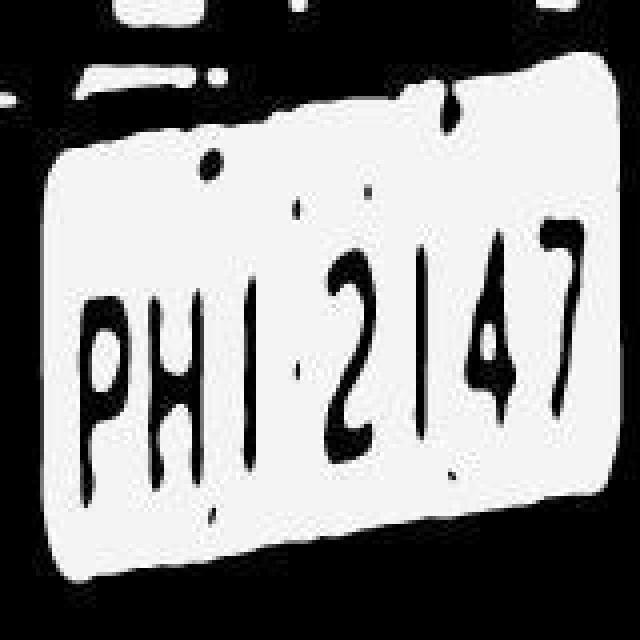1: (394, 226, 438, 478), (216, 262, 264, 490)
2: (302, 236, 386, 492)
4: (456, 208, 520, 456)
7: (528, 210, 600, 454)
H: (140, 270, 212, 498)
P: (60, 274, 132, 518)
